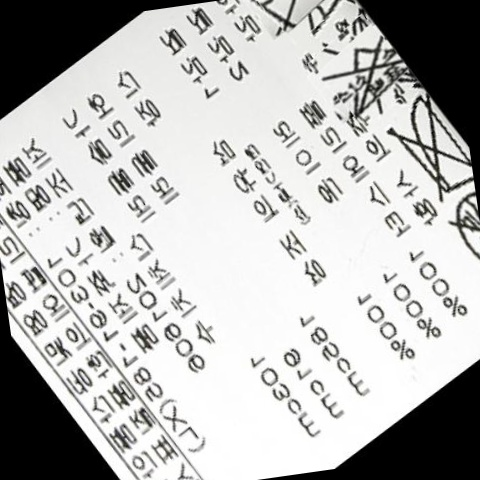DN_bleach: (320, 34, 413, 113)
DN_iron: (384, 99, 474, 201)
